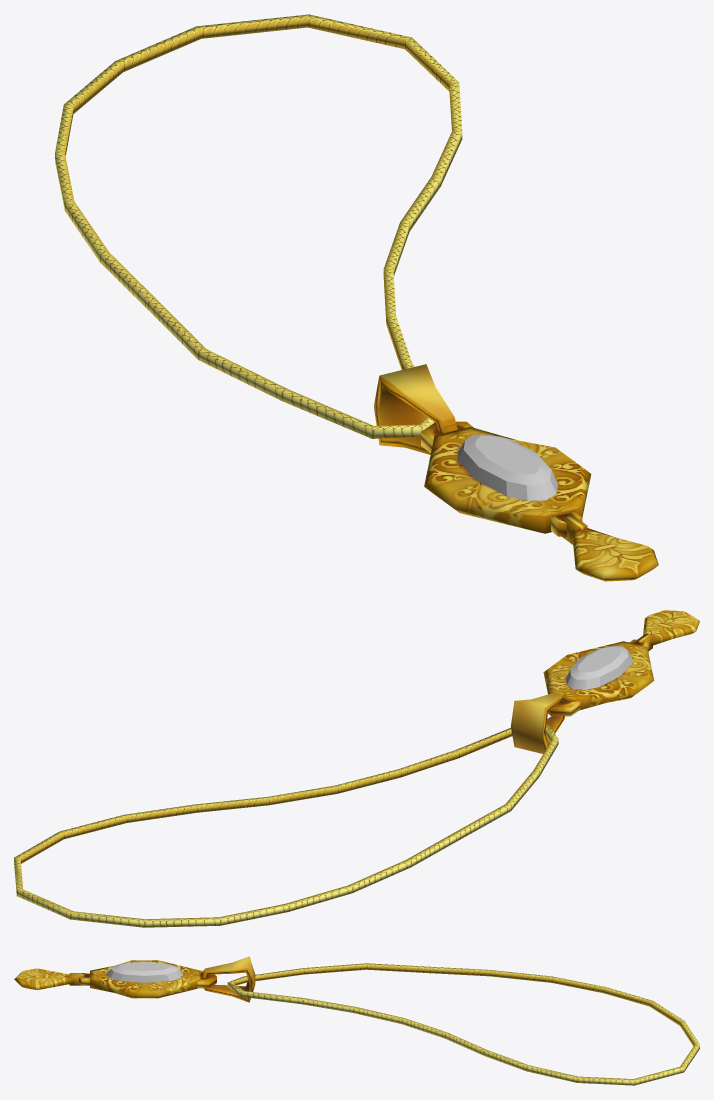
The model's file is pendant_11.fbx.
3 renders of one model, top to bottom at view 1: azimuth 30°, elevation 25°; view 2: azimuth 150°, elevation 25°; view 3: azimuth 270°, elevation 25°, orthographic. The views are drawn at different scales.
Visible parts, largest first — view 1: pendant_11; view 2: pendant_11; view 3: pendant_11.
Boxes of the visible parts, x1,y1,x2,y2 form: pendant_11: (55, 14, 658, 581); pendant_11: (14, 610, 699, 927); pendant_11: (14, 956, 699, 1085).
Size of the model in its own units: 14.23 by 1.97 by 35.03.
